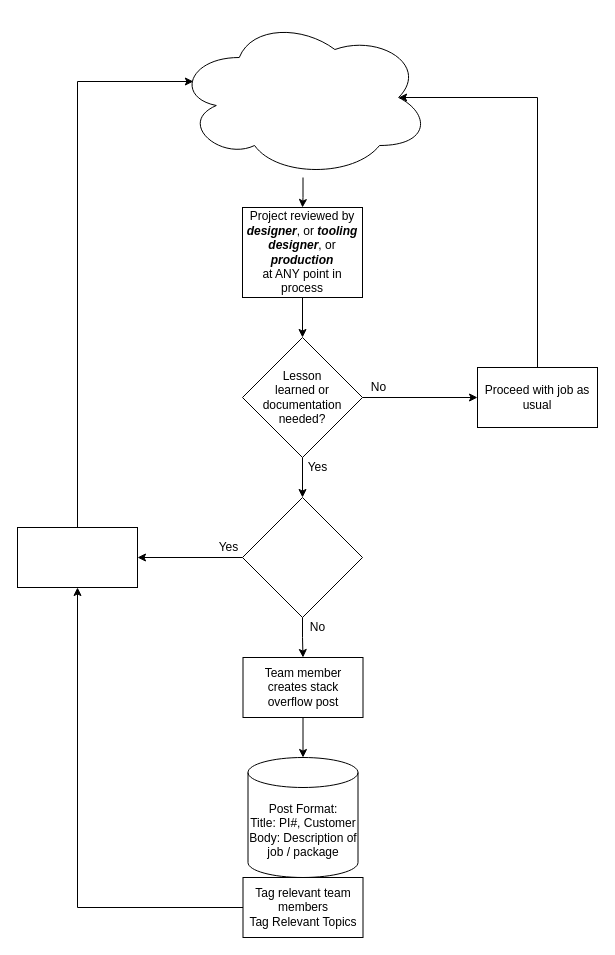
This 615x955 diagram has some shape labels left out. The shapes that lost their labels are listed below. From the top down, each one's box as (x1, y1, x2, y2) in pixels, then its label:
(174, 16, 430, 178): Product Development
(16, 526, 138, 588): Team member comments on post documenting lessons learned / activity
(242, 496, 362, 618): Already Stackoverflow post?
